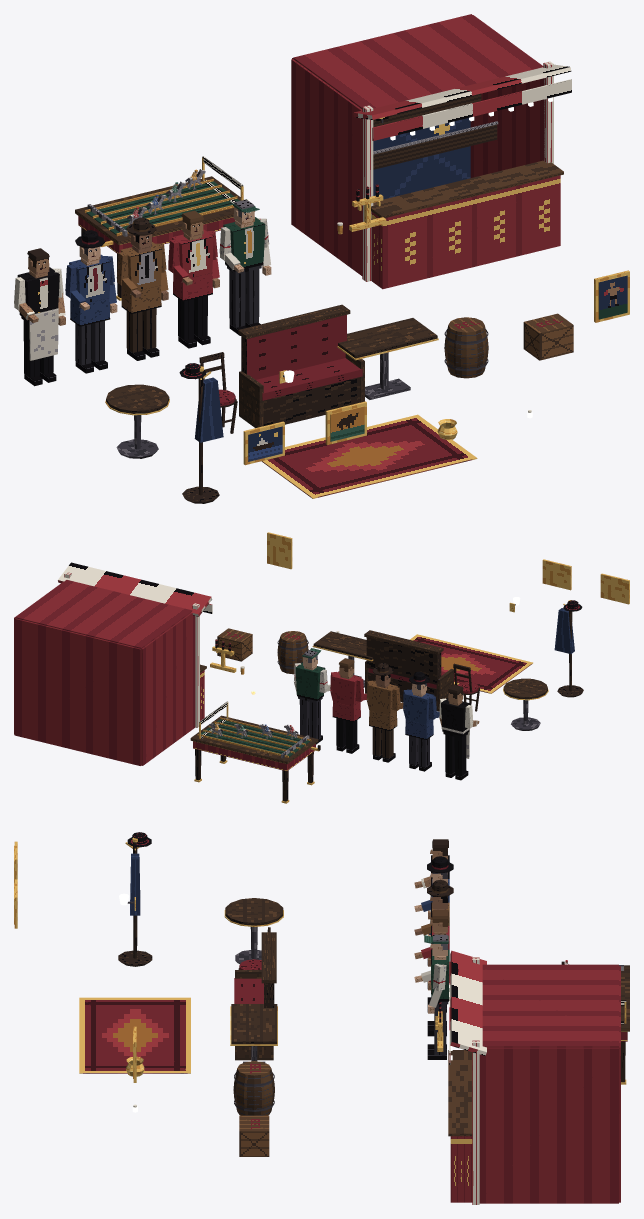
Rendered from bar.glb.
3 renders of one model, top to bottom at view 1: azimuth 30°, elevation 25°; view 2: azimuth 150°, elevation 25°; view 3: azimuth 270°, elevation 25°, orthographic. The views are drawn at different scales.
Visible parts, largest first — view 1: Gallery, Booth, Rug, HorseTrack, PatronB, Bartender, PatronA, PatronC, Bookie, BoothTable, CoatRack, CafeTable (+8 smaller); view 2: Gallery, HorseTrack, Booth, Rug, PatronC, Bartender, PatronB, PatronA, Bookie, CoatRack, CafeTable, BoothTable (+7 smaller); view 3: Gallery, Rug, Booth, BoothTable, Barrel, CafeTable, Bookie, CoatRack, Crate, HorseTrack, Head.002.
Boxes of the visible parts, bbox=[...] form: Gallery: bbox=[291, 14, 571, 289]; Booth: bbox=[238, 304, 364, 427]; Rug: bbox=[262, 414, 477, 498]; HorseTrack: bbox=[75, 156, 255, 300]; PatronB: bbox=[120, 242, 168, 360]; Bartender: bbox=[17, 267, 65, 386]; PatronA: bbox=[69, 254, 117, 373]; PatronC: bbox=[172, 229, 219, 348]; Bookie: bbox=[223, 217, 271, 335]; BoothTable: bbox=[337, 318, 438, 399]; CoatRack: bbox=[179, 363, 223, 503]; CafeTable: bbox=[105, 384, 169, 458]; Gallery: bbox=[14, 562, 212, 765]; HorseTrack: bbox=[190, 701, 320, 803]; Booth: bbox=[364, 630, 453, 711]; Rug: bbox=[410, 634, 532, 693]; PatronC: bbox=[330, 671, 361, 753]; Bartender: bbox=[439, 698, 470, 780]; PatronB: bbox=[366, 680, 397, 762]; PatronA: bbox=[403, 689, 434, 771]; Bookie: bbox=[294, 662, 325, 744]; CoatRack: bbox=[554, 600, 583, 697]; CafeTable: bbox=[503, 678, 548, 730]; BoothTable: bbox=[312, 631, 373, 687]; Gallery: bbox=[448, 950, 620, 1204]; Rug: bbox=[79, 997, 190, 1073]; Booth: bbox=[234, 932, 276, 1060]; BoothTable: bbox=[230, 1004, 277, 1062]; Barrel: bbox=[233, 1061, 274, 1115]; CafeTable: bbox=[224, 898, 283, 964]; Bookie: bbox=[427, 949, 449, 1059]; CoatRack: bbox=[118, 832, 152, 966]; Crate: bbox=[239, 1115, 269, 1156]; HorseTrack: bbox=[561, 961, 629, 1084]; Head.002: bbox=[427, 879, 453, 908].
Size of the model in its own units: 8.26 by 2.47 by 8.28.
18 materials, 18 textured.
